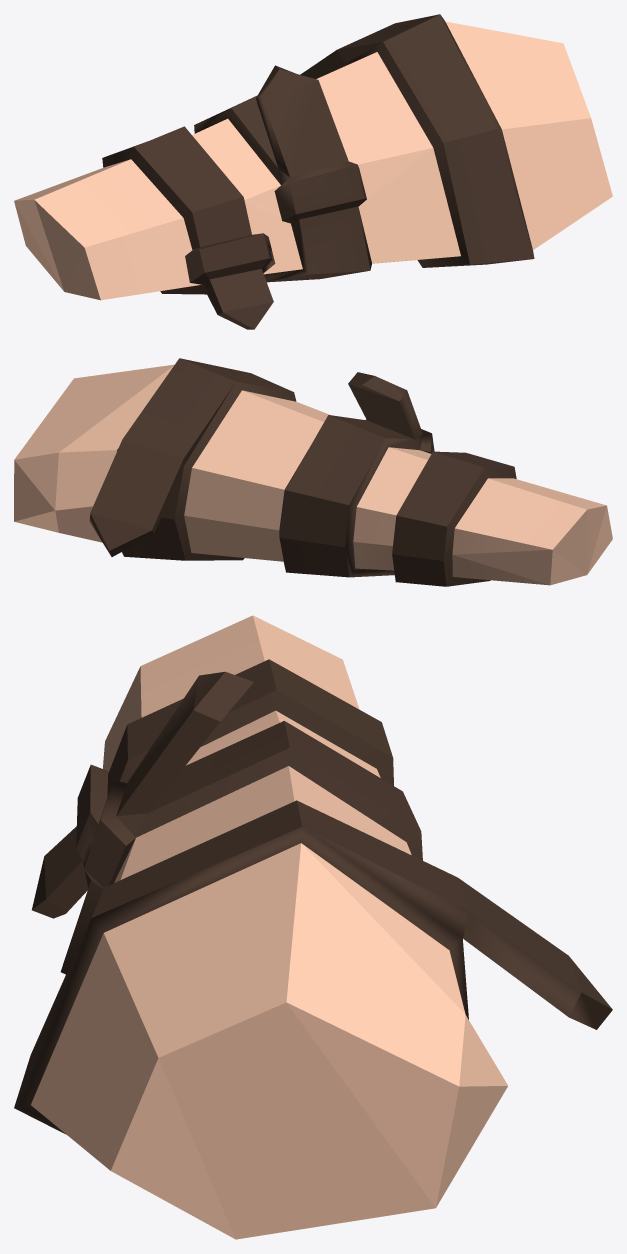
The model's file is Chr_ArmLowerRight_Male_02_Static.fbx.
The picture shows the model from 3 angles, top to bottom: view 1: azimuth 30°, elevation 25°; view 2: azimuth 150°, elevation 25°; view 3: azimuth 270°, elevation 25°; orthographic projection. The views are drawn at different scales.
Parts seen in each view (by area): view 1: Chr_ArmLowerRight_Male_02_Static; view 2: Chr_ArmLowerRight_Male_02_Static; view 3: Chr_ArmLowerRight_Male_02_Static.
Part boxes in pixels (box(x1,y1,x2,y2)): Chr_ArmLowerRight_Male_02_Static: box(14, 14, 612, 329); Chr_ArmLowerRight_Male_02_Static: box(14, 358, 612, 586); Chr_ArmLowerRight_Male_02_Static: box(14, 615, 612, 1239).
Bounding box in the file's own units: 0.2896 × 0.1217 × 0.172.
